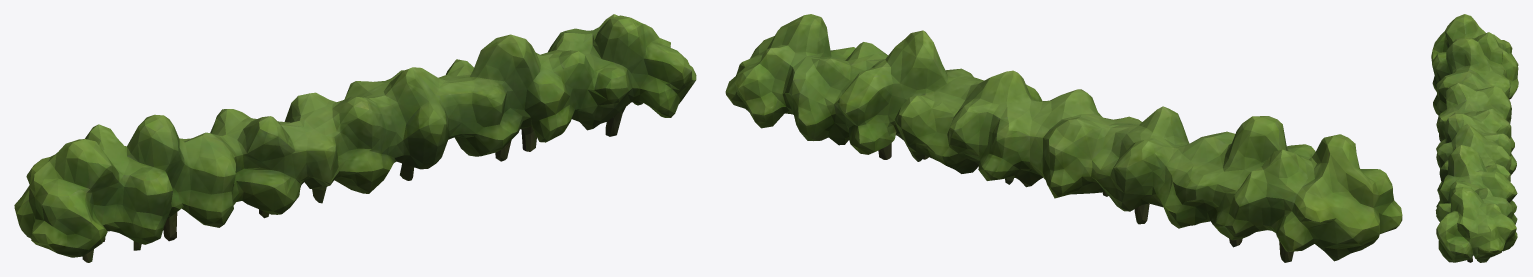
The model's file is bushes.glb.
The picture shows the model from 3 angles, left to right: view 1: azimuth 30°, elevation 25°; view 2: azimuth 150°, elevation 25°; view 3: azimuth 270°, elevation 25°; orthographic projection. The views are drawn at different scales.
Parts seen in each view (by area): view 1: world; view 2: world; view 3: world.
Part boxes in pixels (<box>): world: <box>14,14,696,262</box>; world: <box>725,14,1402,262</box>; world: <box>1431,14,1518,262</box>.
Bounding box in the file's own units: 0.9994 × 0.1917 × 0.1809.
Materials: 1 (1 with a texture image).
